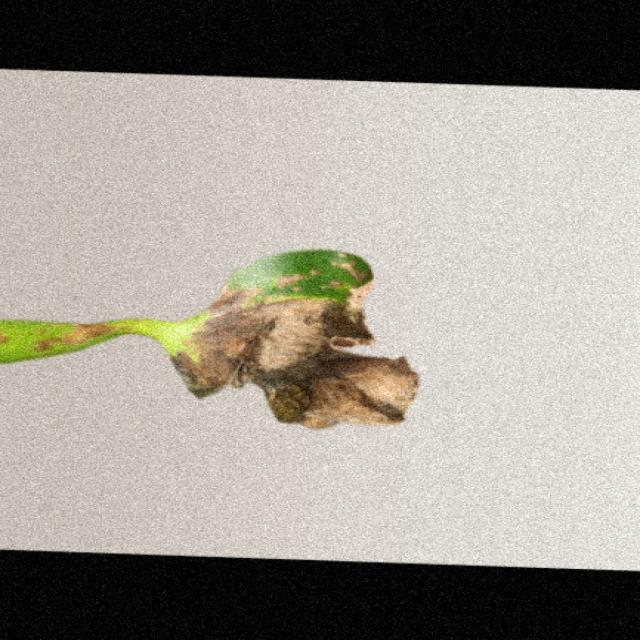daun berpenyakit karat: (2, 250, 418, 429)
